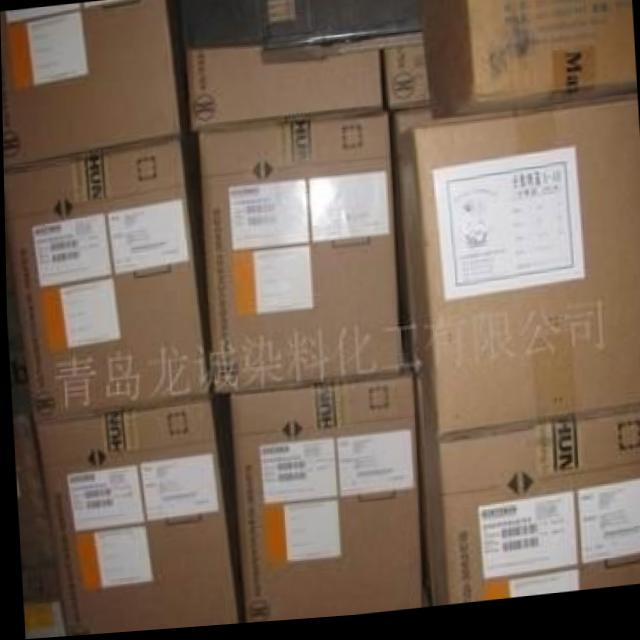box: (398, 107, 640, 445), (3, 140, 205, 422), (198, 116, 401, 396), (34, 405, 235, 637), (230, 378, 417, 627), (0, 0, 184, 171), (417, 426, 578, 612), (418, 0, 635, 120), (187, 50, 384, 132), (573, 417, 640, 597), (381, 47, 427, 114), (392, 109, 432, 146)
